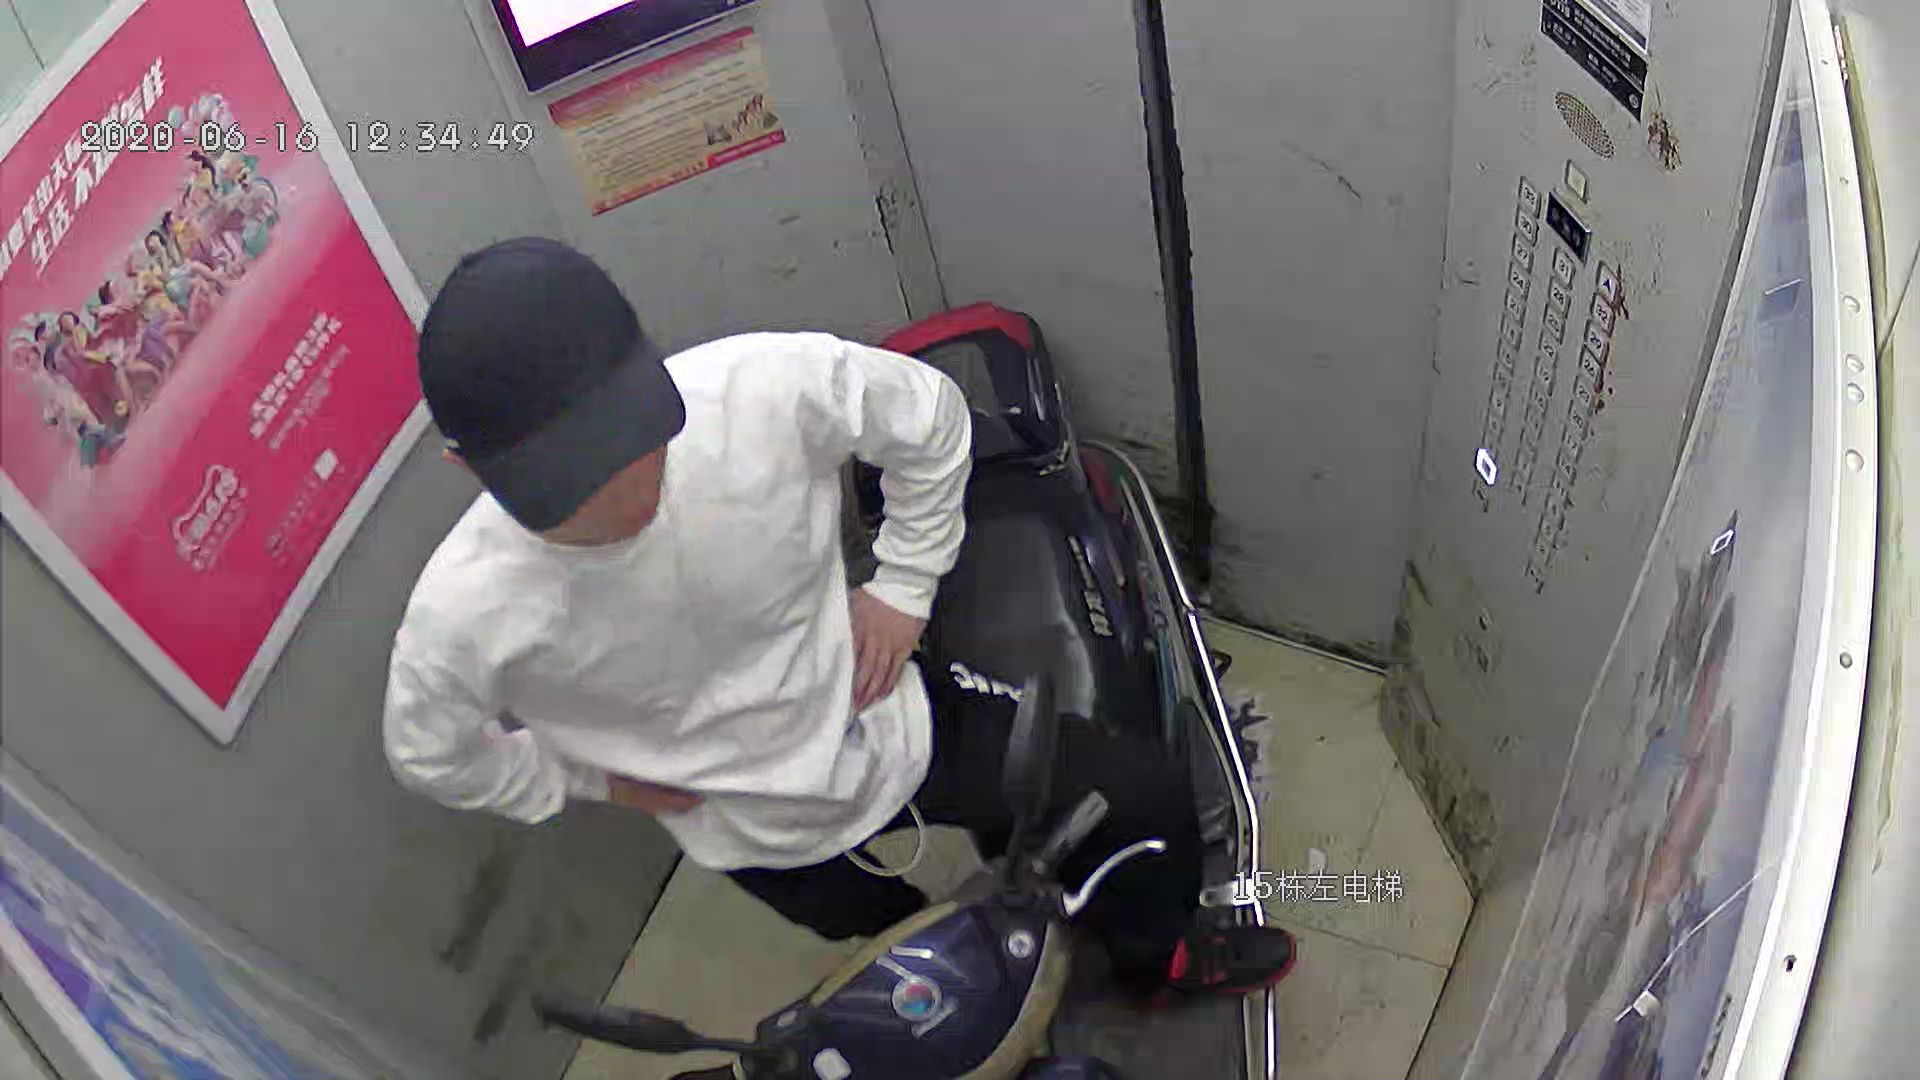Electric-bicycle: (533, 291, 1261, 1079)
